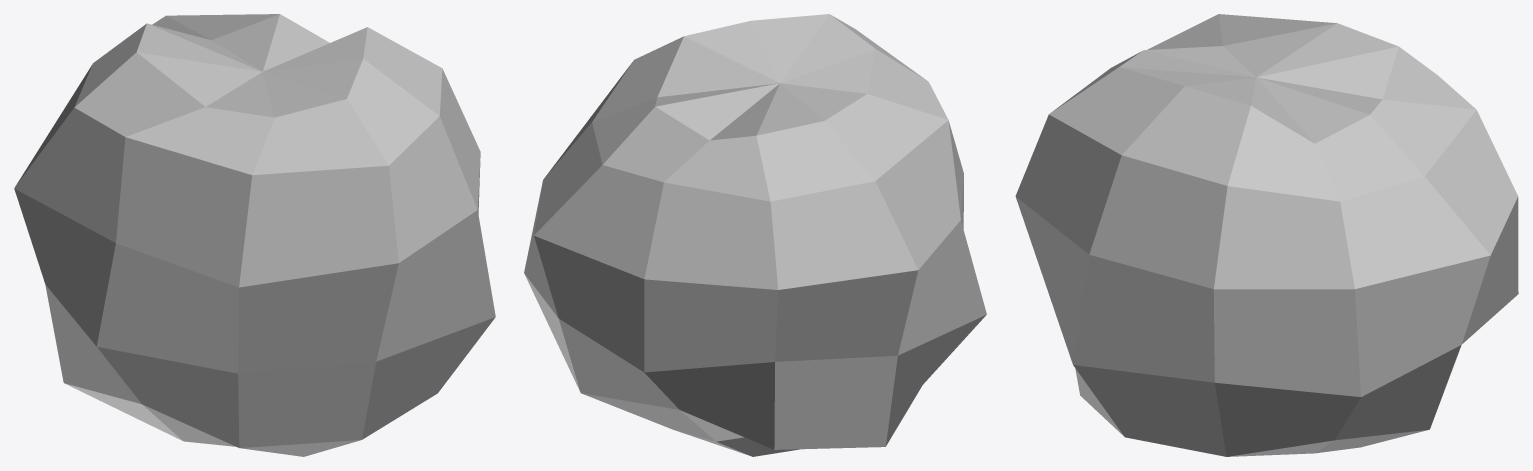
The model's file is Smoke.fbx.
3 renders of one model, left to right at view 1: azimuth 30°, elevation 25°; view 2: azimuth 150°, elevation 25°; view 3: azimuth 270°, elevation 25°, orthographic. The views are drawn at different scales.
Parts seen in each view (by area): view 1: Smoke; view 2: Smoke; view 3: Smoke.
Part boxes in pixels (left/top/right/bottom): Smoke: left=14, top=14, right=495, bottom=456; Smoke: left=524, top=14, right=986, bottom=456; Smoke: left=1015, top=14, right=1518, bottom=456.
Bounding box in the file's own units: 0.2042 × 0.182 × 0.214.
